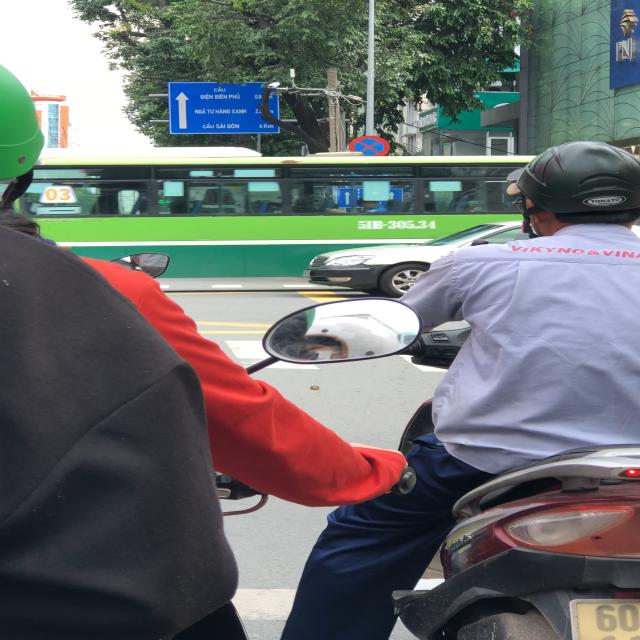Bien bao cam dung xe va do xe: (345, 133, 396, 157)
